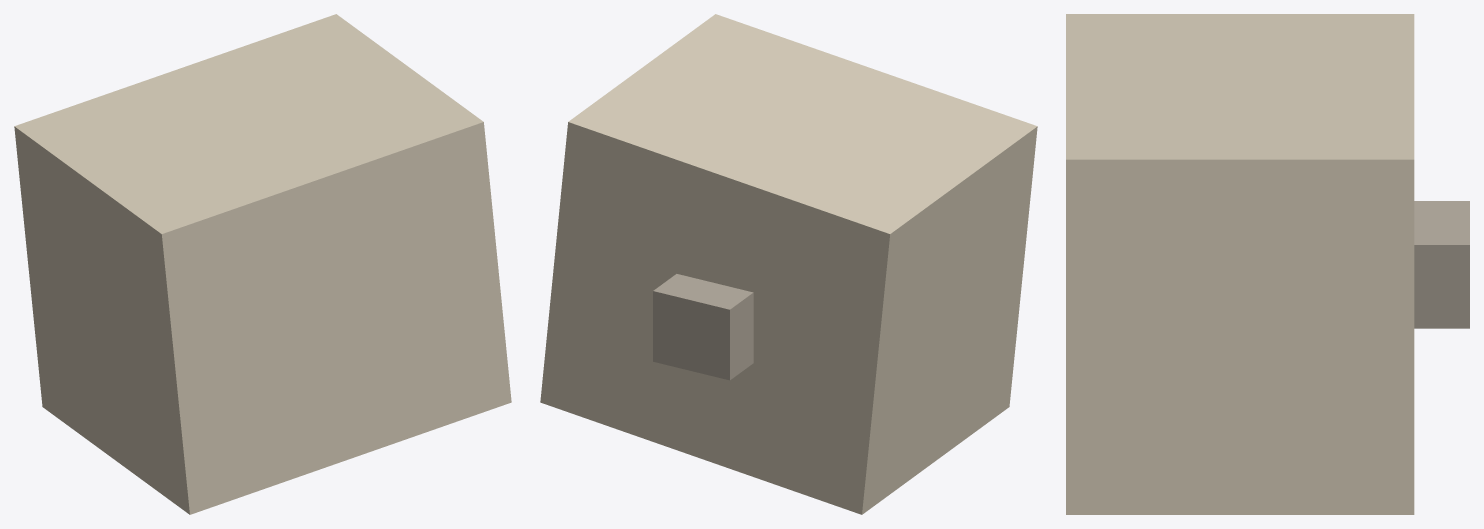
File: historic-palestine-14_27_3559_3219.glb
3 views of the same model, side by side, from view 1: azimuth 30°, elevation 25°; view 2: azimuth 150°, elevation 25°; view 3: azimuth 270°, elevation 25° (orthographic). The views are drawn at different scales.
Parts seen in each view (by area): view 1: Building_; view 2: Building_, Roof access hut; view 3: Building_, Roof access hut.
Part boxes in pixels (box(x1,y1,x2,y2)): Building_: box(14, 14, 511, 514); Building_: box(540, 14, 1037, 514); Roof access hut: box(653, 274, 753, 380); Building_: box(1066, 14, 1414, 514); Roof access hut: box(1414, 201, 1469, 328).
Bounding box in the file's own units: 10.27 × 9.02 × 8.7.
